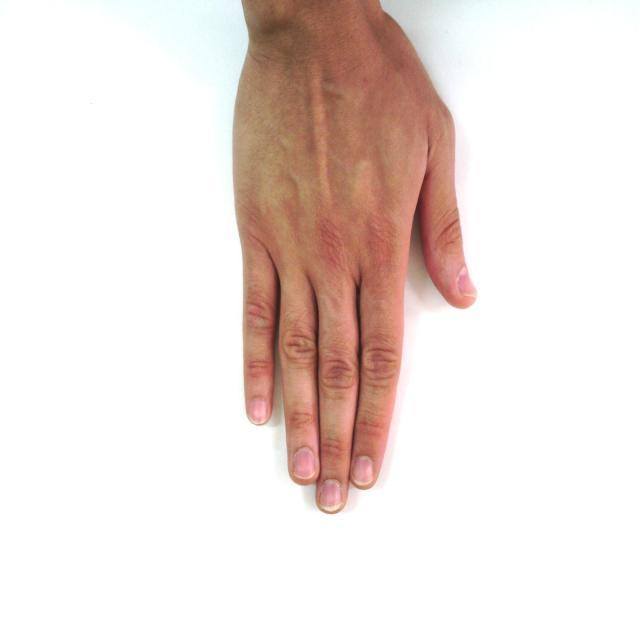Fingernail: (320, 480, 343, 511), (293, 448, 315, 479), (353, 457, 372, 484), (459, 270, 477, 296), (251, 399, 267, 423)
